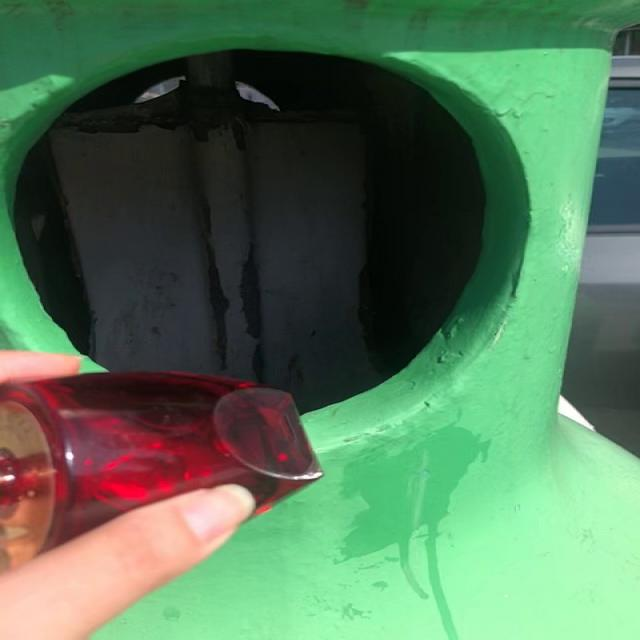glass: (0, 372, 321, 568)
